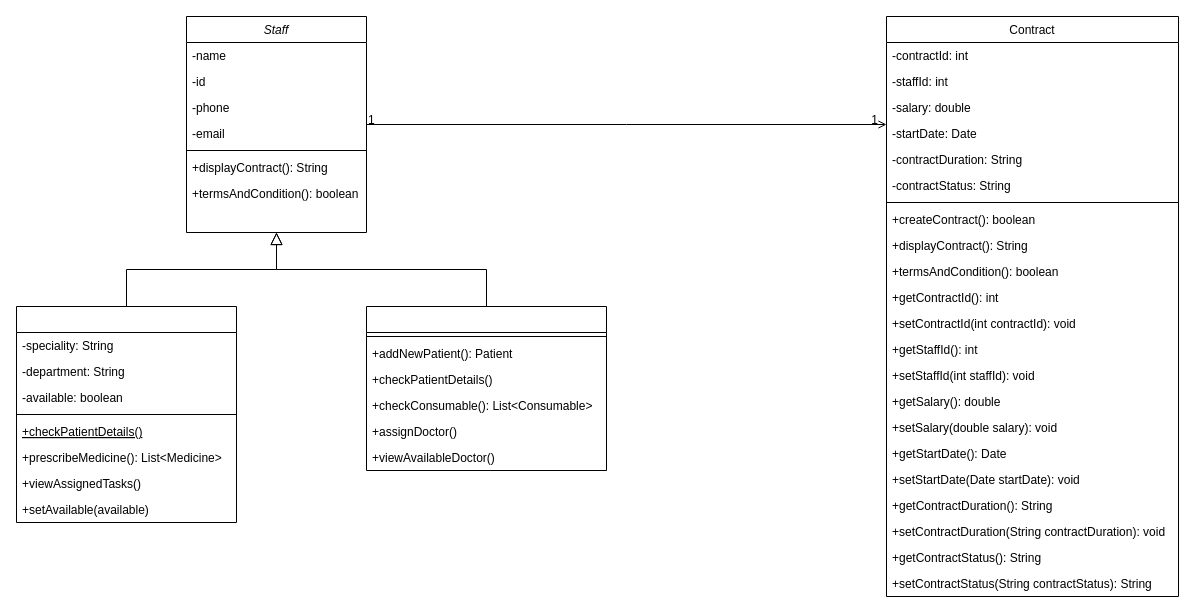
Image size: 1195x613. Some labels were removed from this diagram. Each missing label, with the box of its shape:
Doctor: (16, 306, 236, 522)
Receptionist: (366, 306, 606, 470)
